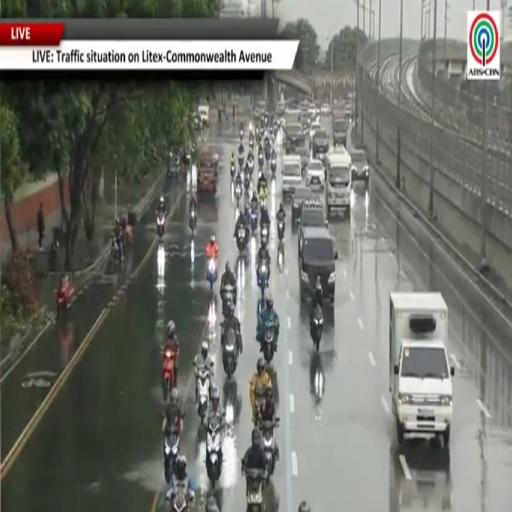car: (299, 226, 338, 303), (298, 199, 327, 254), (292, 186, 314, 222), (351, 150, 369, 185), (306, 158, 325, 189), (285, 123, 303, 153), (312, 130, 329, 157), (333, 118, 348, 147), (294, 147, 309, 174), (198, 105, 209, 126), (310, 121, 321, 137), (255, 100, 267, 114), (320, 104, 331, 118), (309, 103, 317, 119)
motorcycle: (206, 422, 223, 487), (261, 422, 278, 475), (164, 431, 180, 484), (245, 469, 265, 511), (196, 368, 210, 422), (162, 349, 176, 402), (223, 329, 238, 378), (56, 282, 74, 317), (310, 304, 323, 351), (172, 486, 191, 511), (262, 325, 274, 363), (222, 284, 235, 316), (258, 261, 269, 298), (253, 389, 264, 426), (110, 236, 124, 262), (207, 259, 217, 291), (237, 227, 247, 252), (156, 212, 165, 238), (189, 210, 196, 236), (277, 219, 285, 241), (258, 186, 267, 204), (261, 224, 269, 242), (251, 210, 257, 233), (235, 183, 242, 202), (248, 159, 254, 177), (230, 162, 236, 179), (271, 158, 276, 178), (265, 142, 270, 161), (245, 173, 250, 191), (258, 152, 263, 168), (239, 153, 244, 168), (249, 137, 254, 149), (240, 130, 243, 141)
truck: (390, 293, 454, 447), (325, 147, 351, 218)
